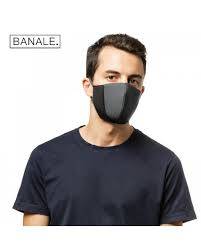Mask: (89, 46, 144, 122)
